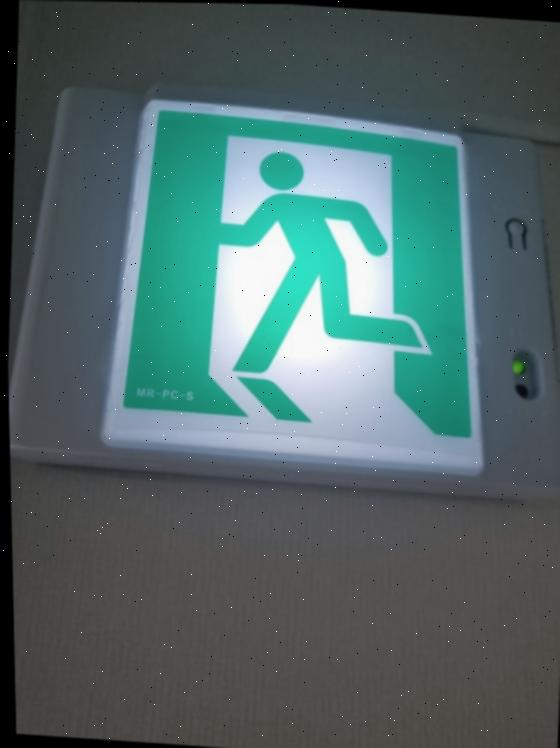emergency_exit: (100, 97, 486, 478)
